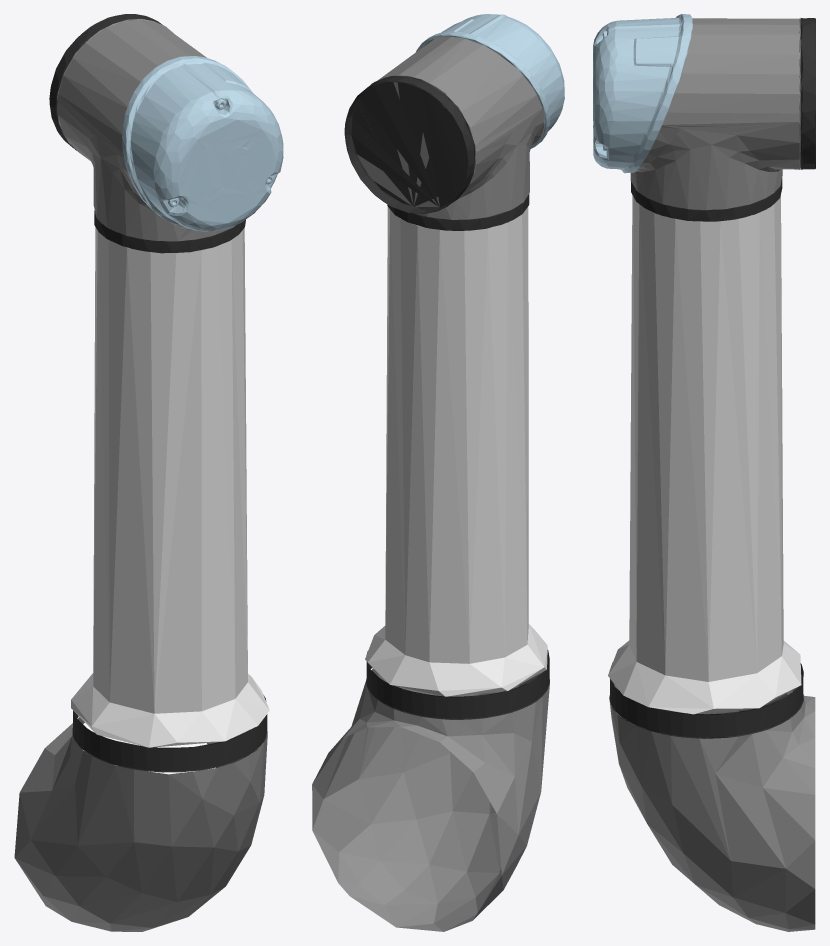
File: forearm.dae
The picture shows the model from 3 angles, left to right: view 1: azimuth 30°, elevation 25°; view 2: azimuth 150°, elevation 25°; view 3: azimuth 270°, elevation 25°; orthographic projection. The views are drawn at different scales.
Parts seen in each view (by area): view 1: eSeries_UR5e_022, eSeries_UR5e_020, eSeries_UR5e_024, eSeries_UR5e_028, eSeries_UR5e_021, eSeries_UR5e_023, eSeries_UR5e_025; view 2: eSeries_UR5e_022, eSeries_UR5e_020, eSeries_UR5e_028, eSeries_UR5e_025, eSeries_UR5e_024, eSeries_UR5e_021, eSeries_UR5e_023; view 3: eSeries_UR5e_022, eSeries_UR5e_020, eSeries_UR5e_028, eSeries_UR5e_024, eSeries_UR5e_021, eSeries_UR5e_025, eSeries_UR5e_023.
Part boxes in pixels (x1,y1,x2,y2): eSeries_UR5e_022: (71, 227, 269, 747); eSeries_UR5e_020: (14, 717, 267, 931); eSeries_UR5e_024: (122, 56, 283, 231); eSeries_UR5e_028: (57, 19, 235, 241); eSeries_UR5e_021: (72, 695, 267, 772); eSeries_UR5e_023: (94, 210, 245, 253); eSeries_UR5e_025: (49, 14, 163, 149); eSeries_UR5e_022: (365, 206, 547, 696); eSeries_UR5e_020: (312, 668, 549, 931); eSeries_UR5e_028: (357, 37, 544, 219); eSeries_UR5e_025: (344, 76, 475, 214); eSeries_UR5e_024: (416, 14, 564, 148); eSeries_UR5e_021: (366, 650, 549, 719); eSeries_UR5e_023: (387, 194, 529, 230); eSeries_UR5e_022: (608, 195, 801, 714); eSeries_UR5e_020: (609, 685, 815, 931); eSeries_UR5e_028: (630, 18, 800, 209); eSeries_UR5e_024: (593, 14, 692, 173); eSeries_UR5e_021: (609, 662, 803, 738); eSeries_UR5e_025: (800, 18, 815, 169); eSeries_UR5e_023: (631, 178, 782, 221).
Bounding box in the file's own units: 0.1161 × 0.1099 × 0.4896.
